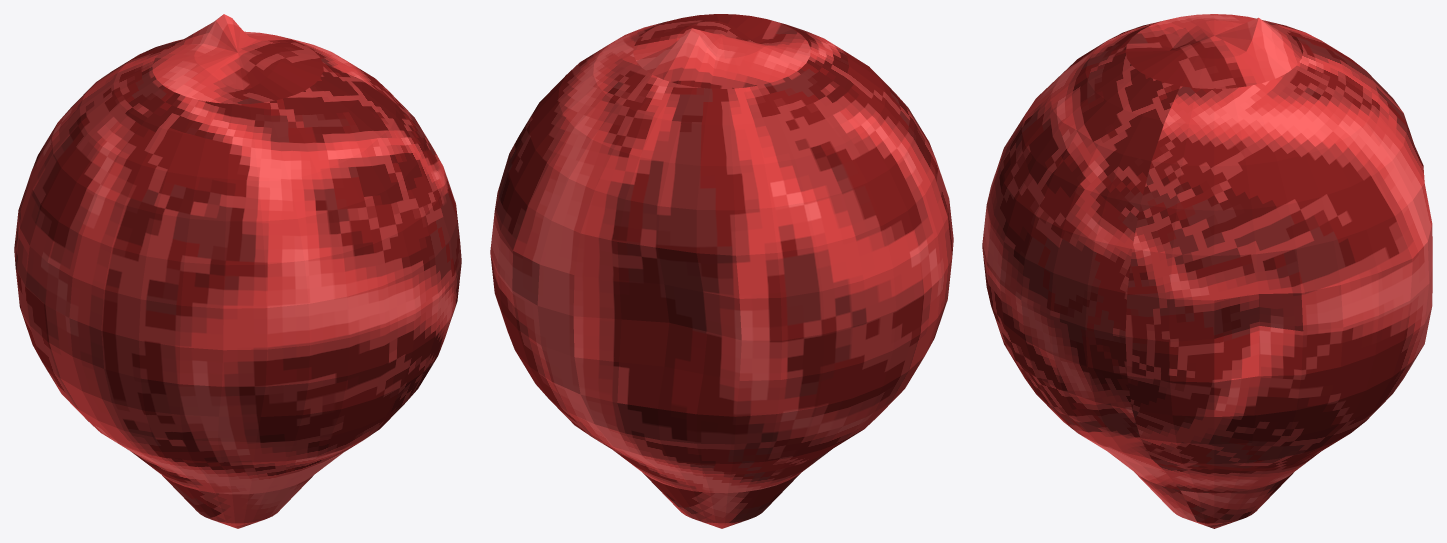
The model's file is Map.fbx.
3 renders of one model, left to right at view 1: azimuth 30°, elevation 25°; view 2: azimuth 150°, elevation 25°; view 3: azimuth 270°, elevation 25°, orthographic. The views are drawn at different scales.
Visible parts, largest first — view 1: Sphere; view 2: Sphere; view 3: Sphere.
Boxes of the visible parts, x1,y1,x2,y2 form: Sphere: (14,14,461,528); Sphere: (490,14,953,528); Sphere: (982,14,1432,528).
Bounding box in the file's own units: 325 × 401 × 318.
